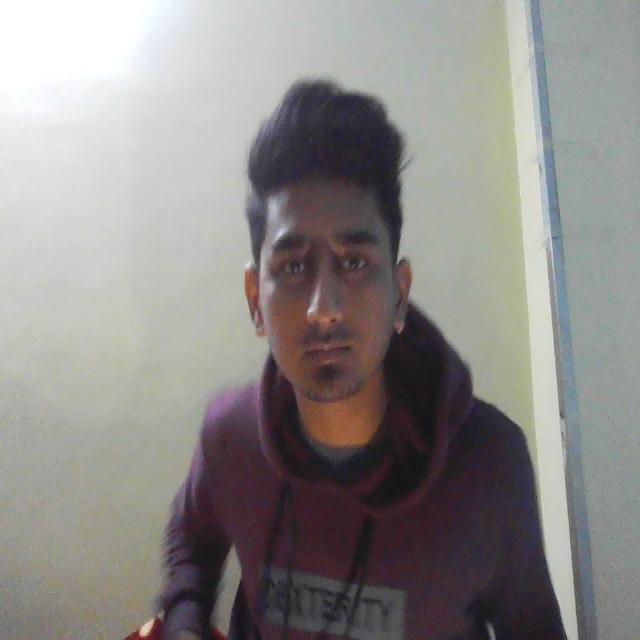real: (240, 89, 423, 436)
